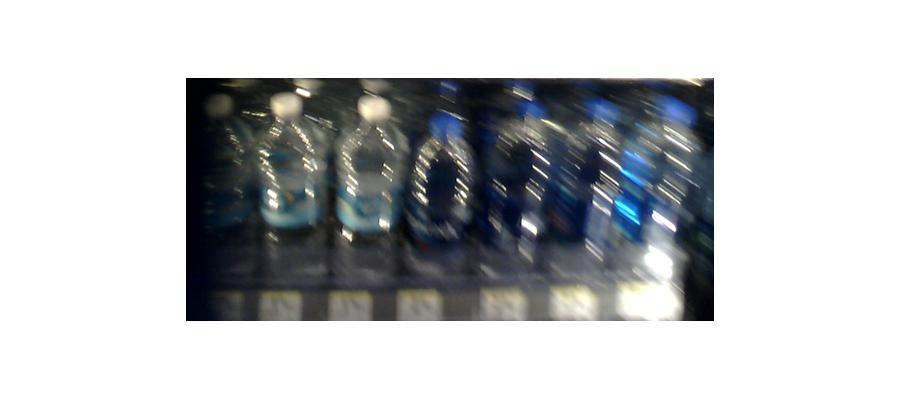bottle: (254, 92, 330, 294), (328, 91, 404, 291), (479, 83, 547, 287), (404, 105, 476, 292), (203, 88, 253, 289)
